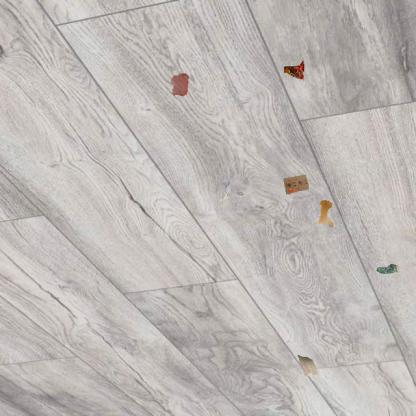dirty: (295, 353, 321, 379), (282, 57, 307, 82), (282, 173, 309, 194), (217, 178, 232, 207), (374, 261, 401, 276)
liquid: (316, 199, 335, 229), (169, 72, 190, 98)
